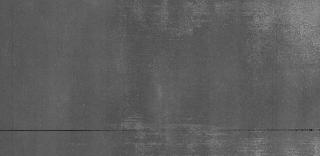scratches: (4, 122, 314, 138)
